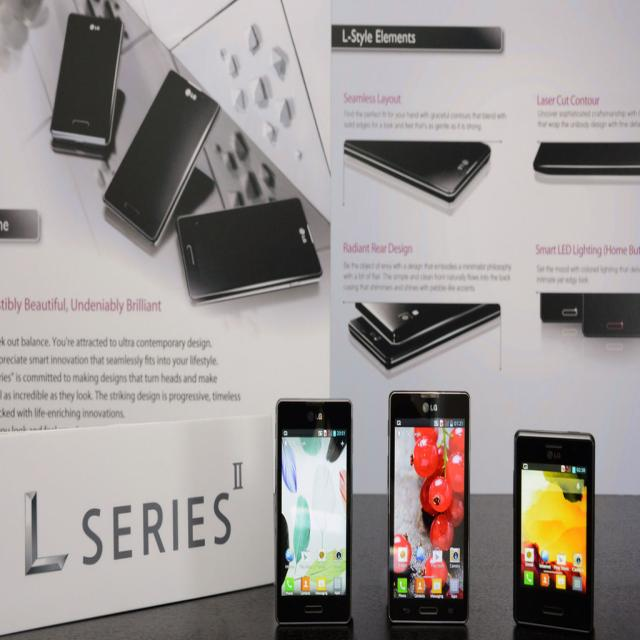Mobile-phone: (100, 70, 220, 248), (387, 388, 472, 629), (272, 394, 353, 632), (511, 426, 594, 634), (176, 196, 322, 303), (47, 15, 123, 149), (348, 312, 501, 370), (346, 142, 491, 202), (355, 302, 502, 346), (532, 142, 640, 171), (580, 296, 640, 338), (177, 165, 216, 219), (538, 292, 582, 324)
